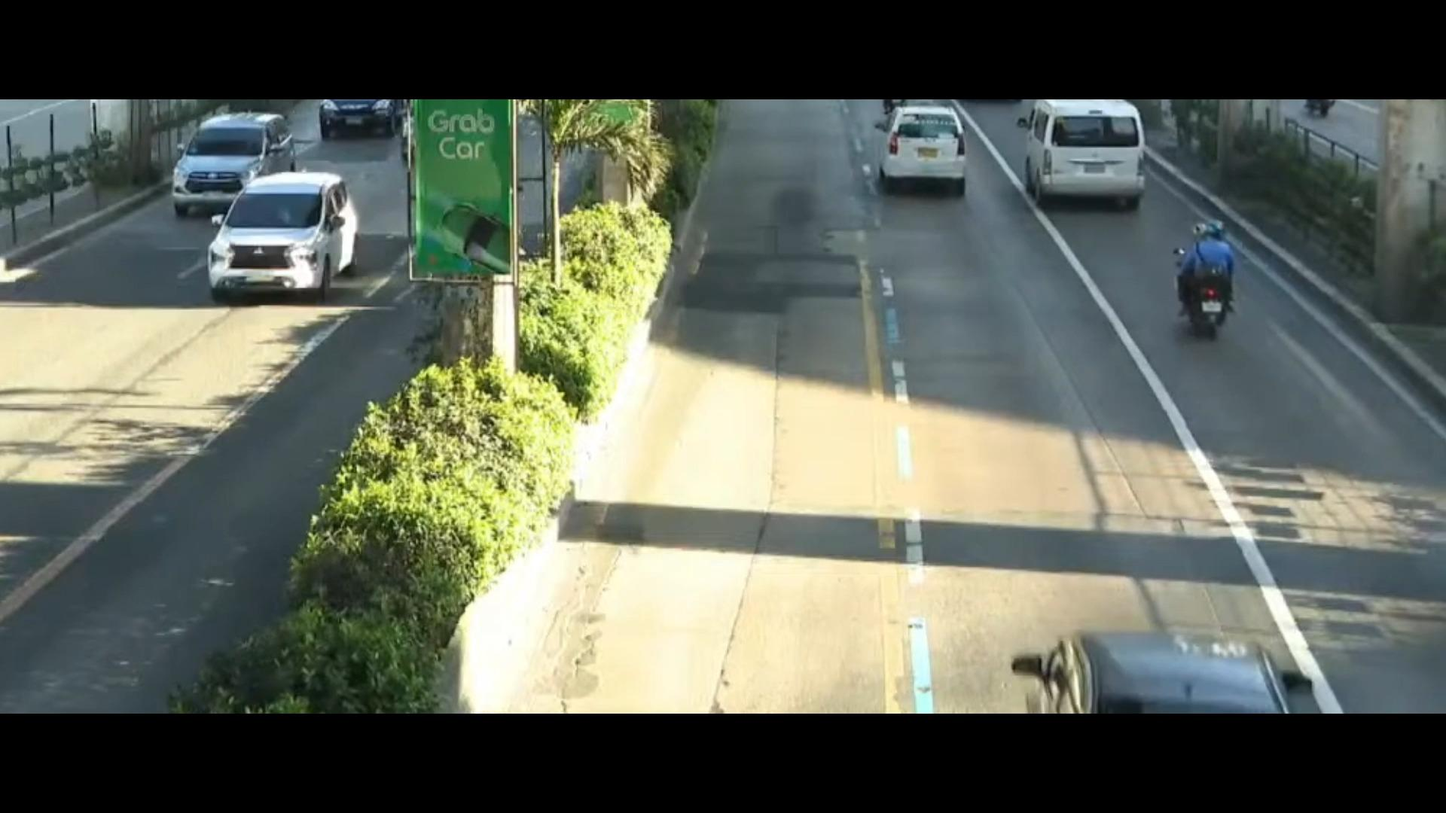Motorcycle: (1150, 207, 1256, 339)
SUV: (185, 172, 368, 315), (159, 100, 296, 215), (844, 106, 972, 202)
Van: (1016, 96, 1147, 212)
